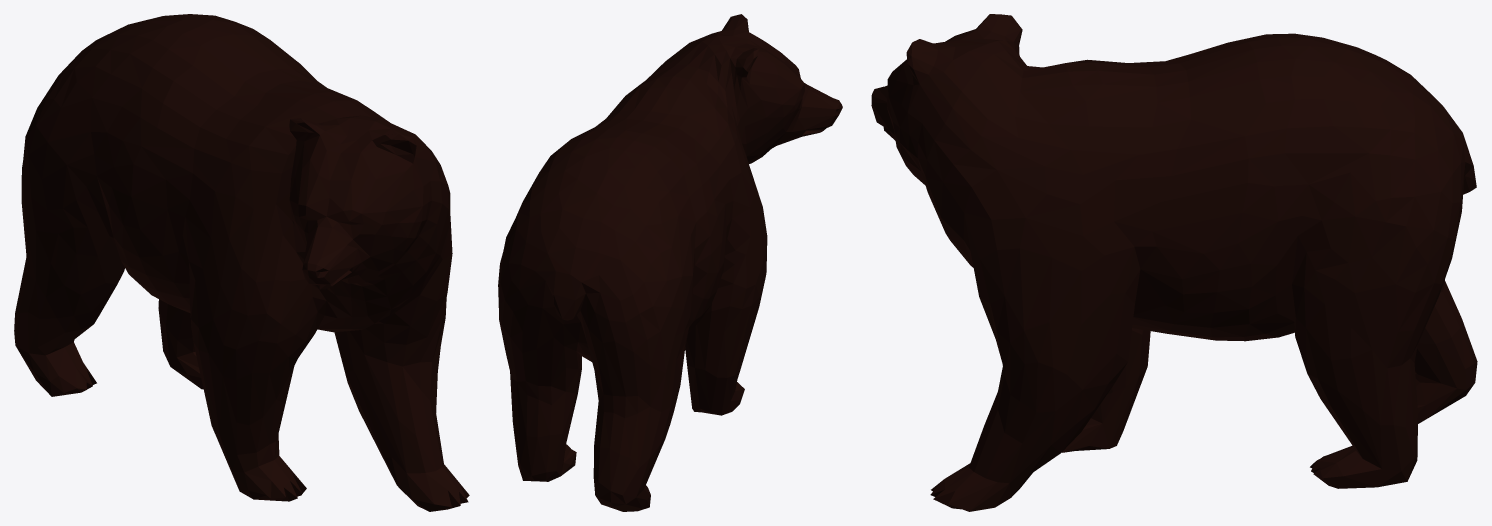
Rendered from bear.obj.
3 views of the same model, side by side, from view 1: azimuth 30°, elevation 25°; view 2: azimuth 150°, elevation 25°; view 3: azimuth 270°, elevation 25° (orthographic). The views are drawn at different scales.
Parts seen in each view (by area): view 1: bear; view 2: bear; view 3: bear.
Boxes of the visible parts, x1=… form: bear: x1=14, y1=14, x2=469, y2=511; bear: x1=498, y1=14, x2=842, y2=511; bear: x1=871, y1=14, x2=1477, y2=511.
Bounding box in the file's own units: 2.85 × 4.45 × 5.77.
